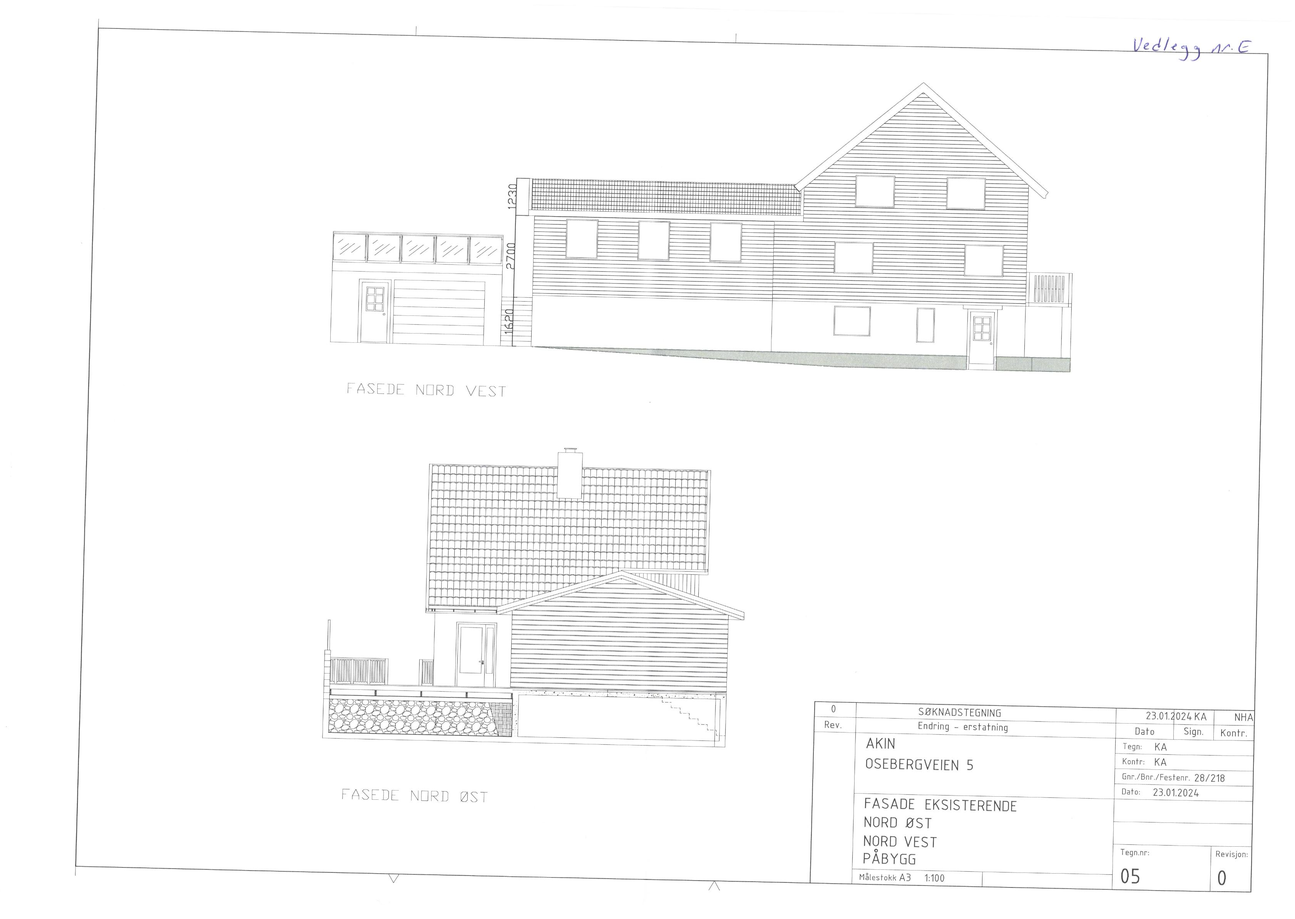fasade: (330, 83, 1071, 372), (323, 446, 745, 748)
